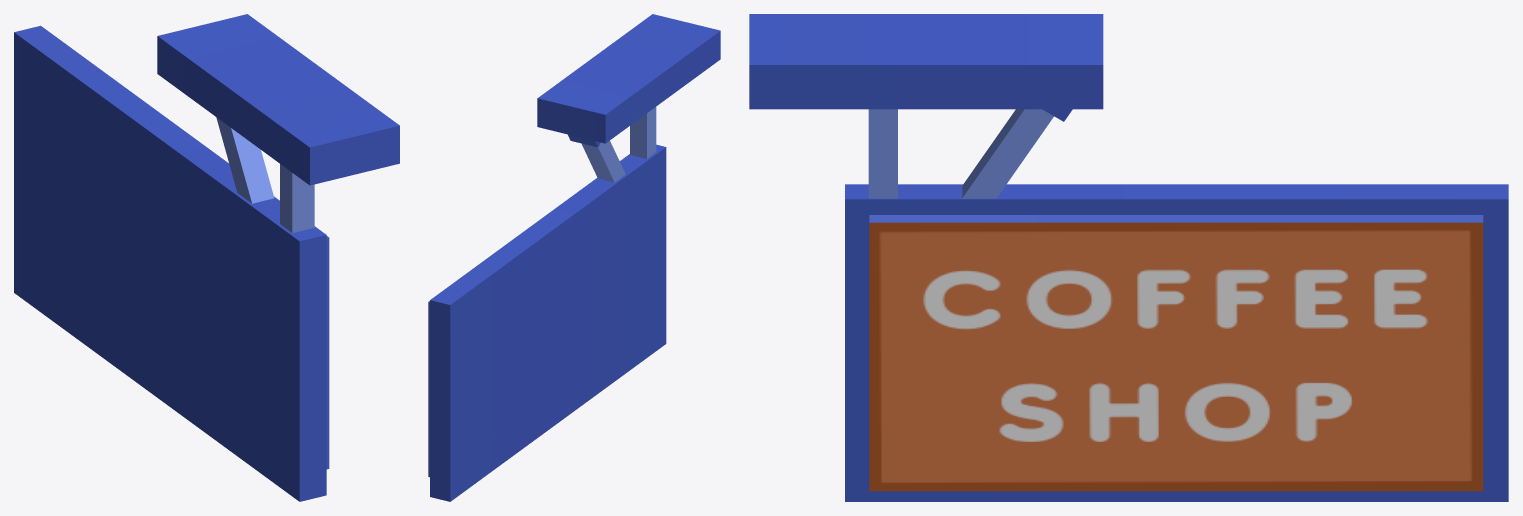
File: SignProp_1_B_1.glb
3 renders of one model, left to right at view 1: azimuth 30°, elevation 25°; view 2: azimuth 150°, elevation 25°; view 3: azimuth 270°, elevation 25°, orthographic. The views are drawn at different scales.
Visible parts, largest first — view 1: SignProp_1_B_1; view 2: SignProp_1_B_1; view 3: SignProp_1_B_1.
Boxes of the visible parts, <box> form: SignProp_1_B_1: <box>14,14,399,501</box>; SignProp_1_B_1: <box>428,14,720,501</box>; SignProp_1_B_1: <box>749,14,1508,501</box>.
Size of the model in its own units: 0.2079 by 0.8649 by 1.31.
2 materials, 2 textured.
